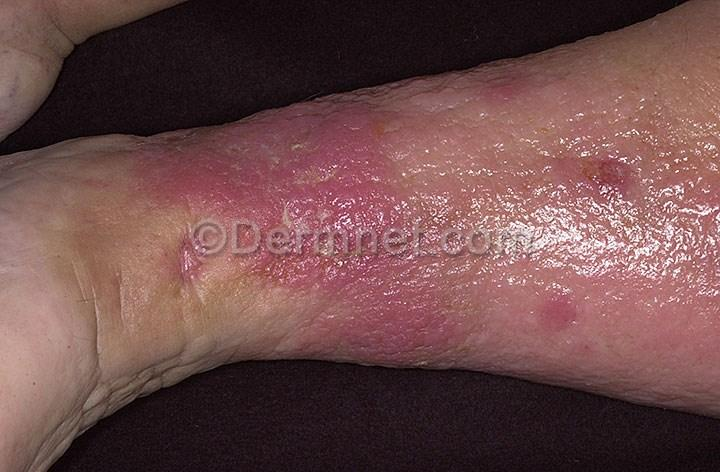Eczema: (157, 258, 484, 372), (151, 107, 435, 222), (446, 77, 674, 215), (480, 264, 704, 400), (657, 9, 720, 214), (544, 215, 720, 258)
